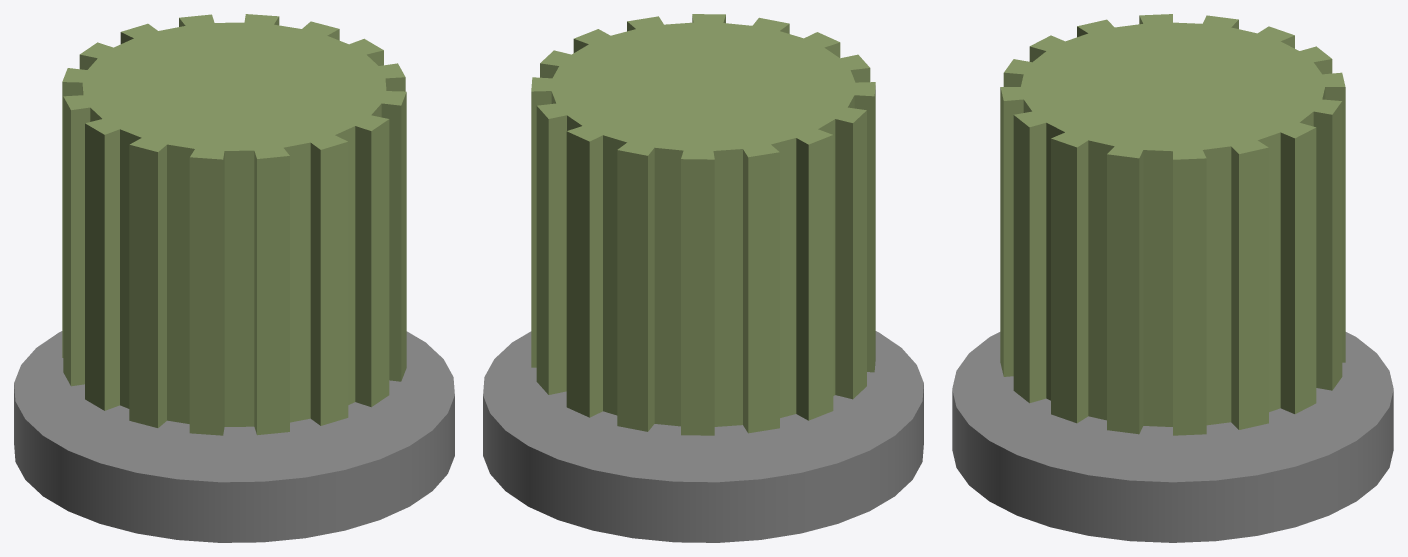
File: bouton tournant 1 v2.glb
3 views of the same model, side by side, from view 1: azimuth 30°, elevation 25°; view 2: azimuth 150°, elevation 25°; view 3: azimuth 270°, elevation 25° (orthographic).
Parts seen in each view (by area): view 1: Bouton Tournant 1, Base Tournant 1; view 2: Bouton Tournant 1, Base Tournant 1; view 3: Bouton Tournant 1, Base Tournant 1.
Part boxes in pixels (left/top/right/bottom): Bouton Tournant 1: left=62, top=14, right=406, bottom=435; Base Tournant 1: left=14, top=331, right=454, bottom=542; Bouton Tournant 1: left=531, top=14, right=875, bottom=435; Base Tournant 1: left=483, top=331, right=923, bottom=542; Bouton Tournant 1: left=1000, top=14, right=1345, bottom=435; Base Tournant 1: left=952, top=332, right=1393, bottom=542.
Size of the model in its own units: 0.3171 by 0.2874 by 0.3171.
